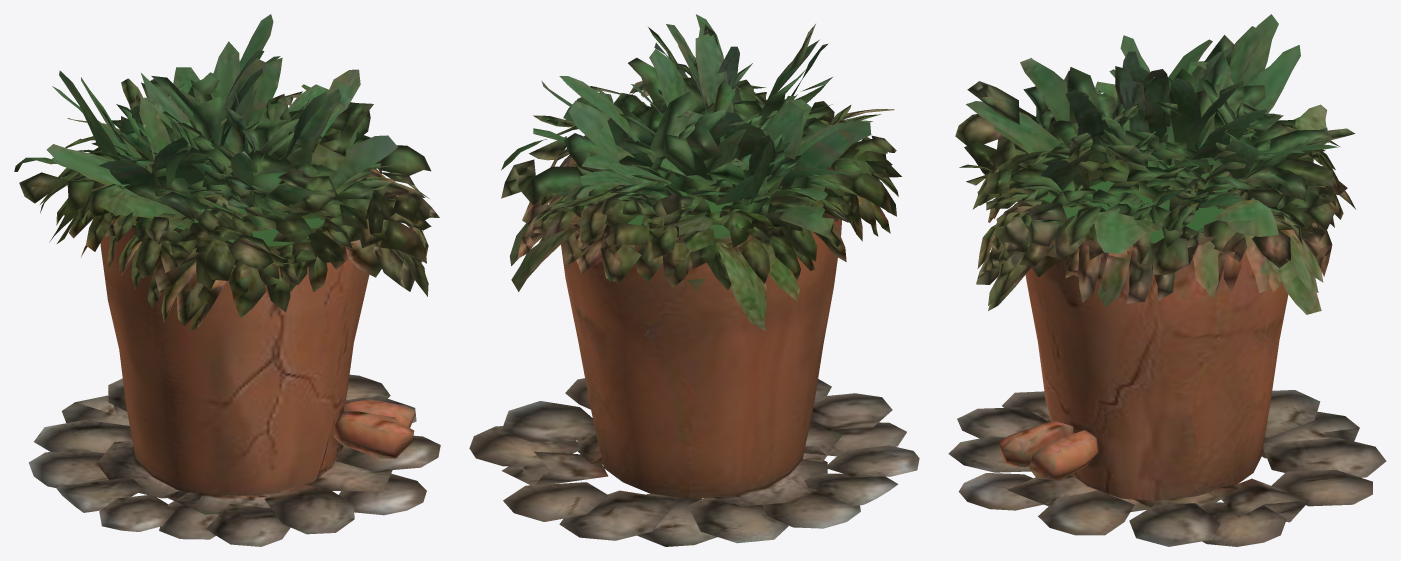
Rendered from jd_vaso.glb.
The picture shows the model from 3 angles, left to right: view 1: azimuth 30°, elevation 25°; view 2: azimuth 150°, elevation 25°; view 3: azimuth 270°, elevation 25°; orthographic projection. The views are drawn at different scales.
Parts seen in each view (by area): view 1: mesh_node; view 2: mesh_node; view 3: mesh_node.
Boxes of the visible parts, x1,y1,x2,y2 form: mesh_node: (14, 14, 440, 546); mesh_node: (469, 14, 919, 546); mesh_node: (948, 14, 1386, 546).
Size of the model in its own units: 0.2363 by 0.252 by 0.2485.
1 material, 1 textured.
